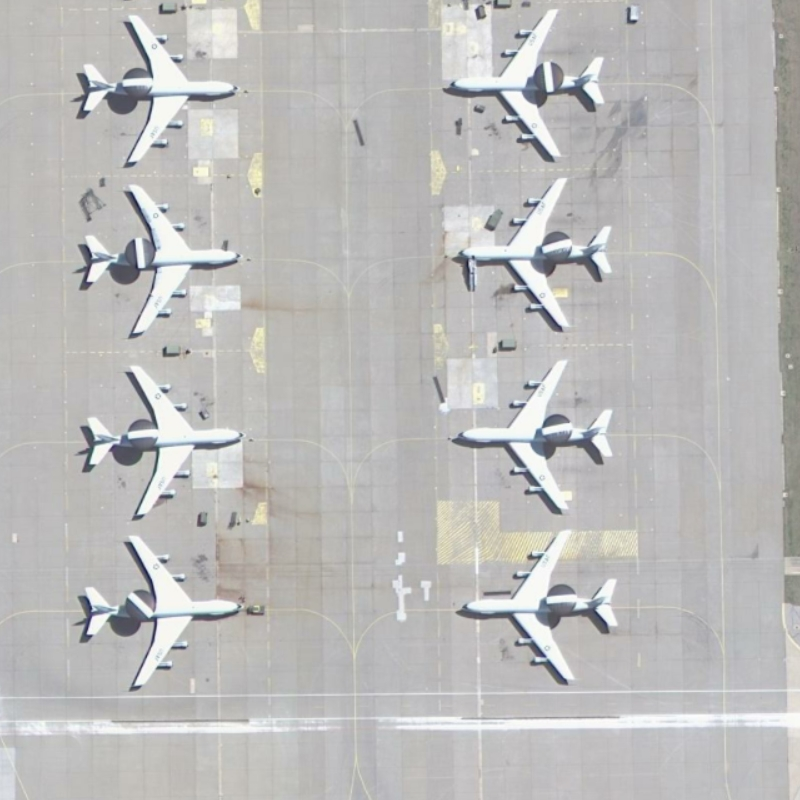A7: (75, 526, 247, 700), (73, 178, 248, 348), (452, 523, 626, 690), (456, 350, 624, 522), (72, 360, 253, 518), (435, 5, 615, 162), (73, 10, 241, 172), (452, 168, 616, 333)
